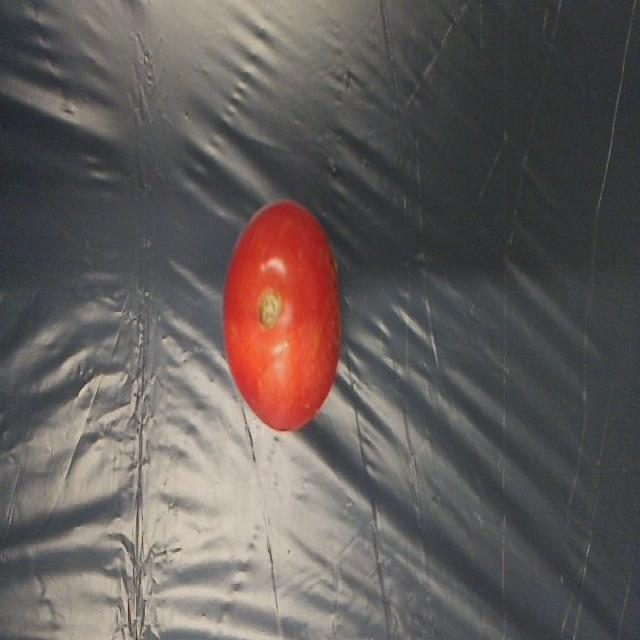kirmizi: (217, 196, 346, 440)
